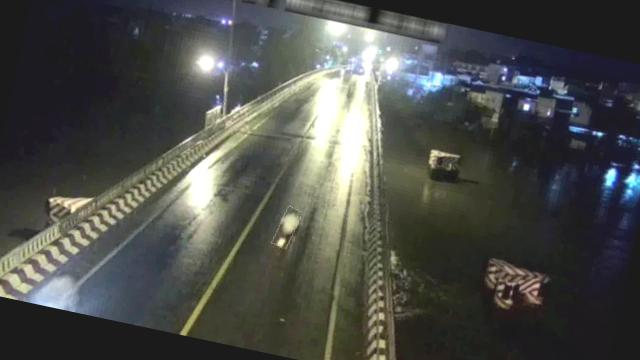Bike: (274, 206, 301, 250)
